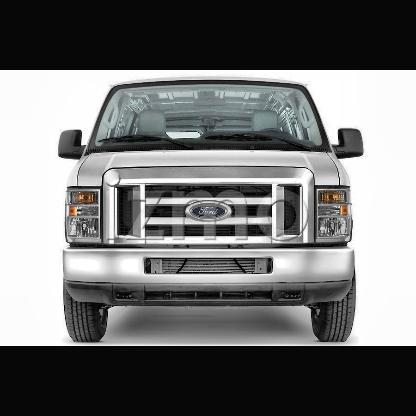Ford E-Series Wagon Van 2012: (55, 74, 365, 346)
